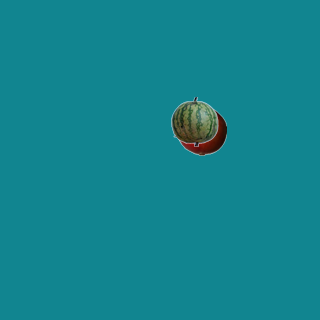Apple Braeburn: (176, 105, 226, 155)
Watermelon: (169, 96, 219, 146)
